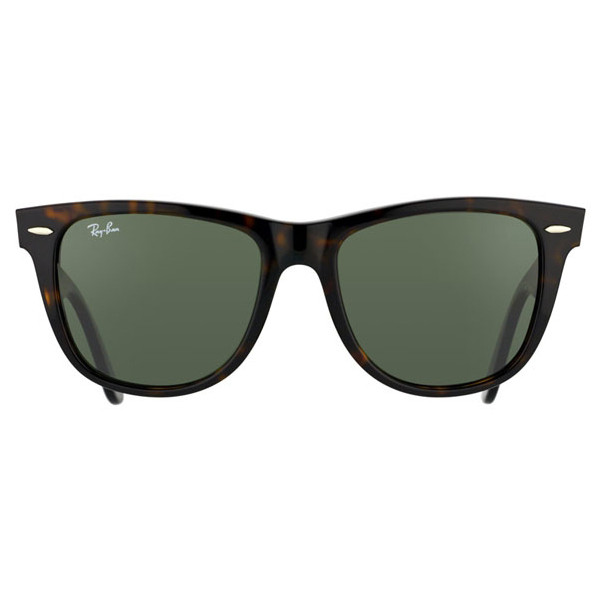Rayban: (80, 219, 127, 241)
